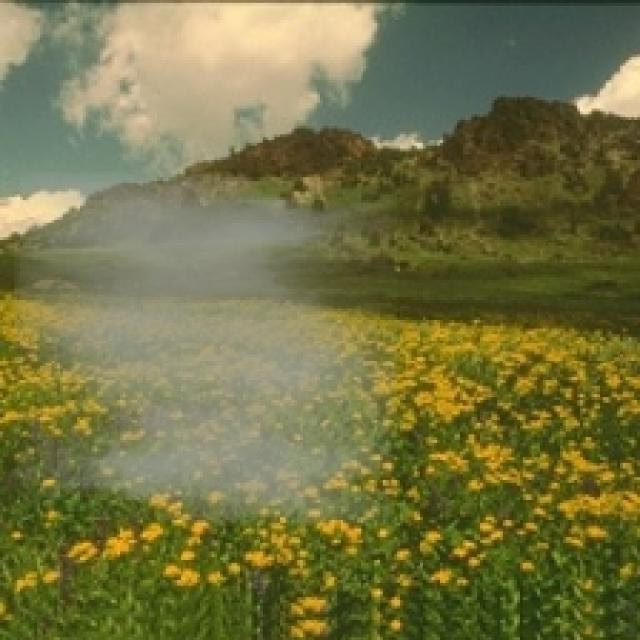smoke: (14, 171, 397, 526)
